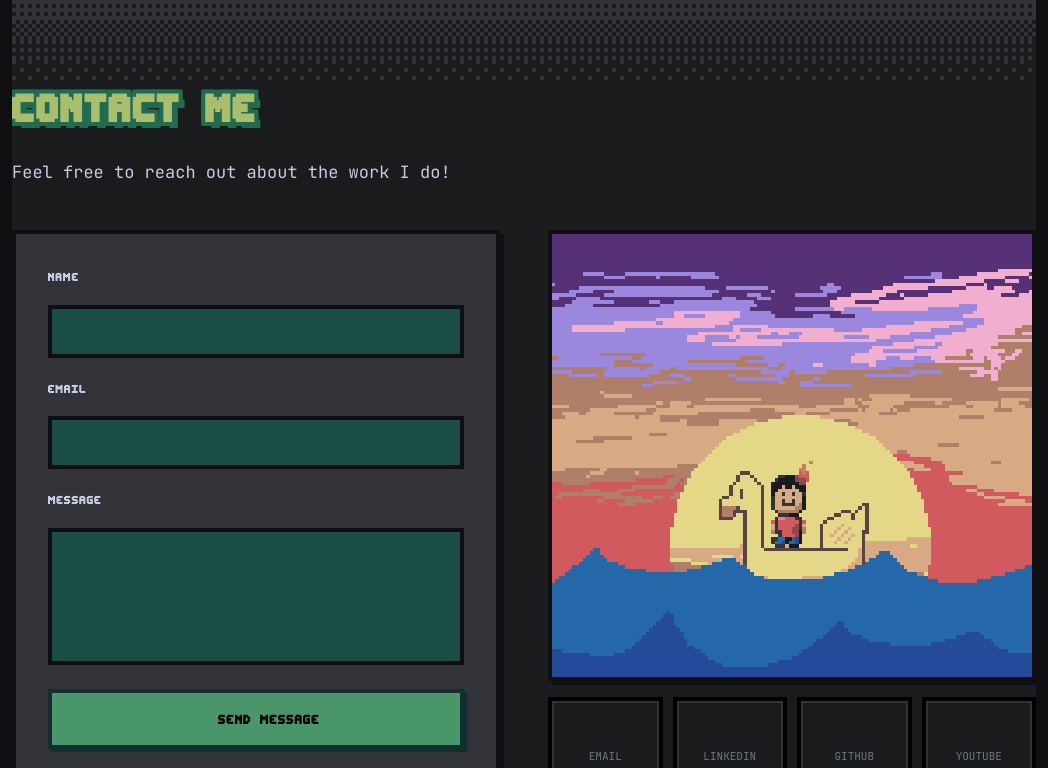
Test: Contact submission › shows the danger toast on failure and keeps the fields
The image size is (1048, 768).
Type "Ada" into the field labelled "Name".
click(256, 331); type("Ada")  # box [48,305,464,358]
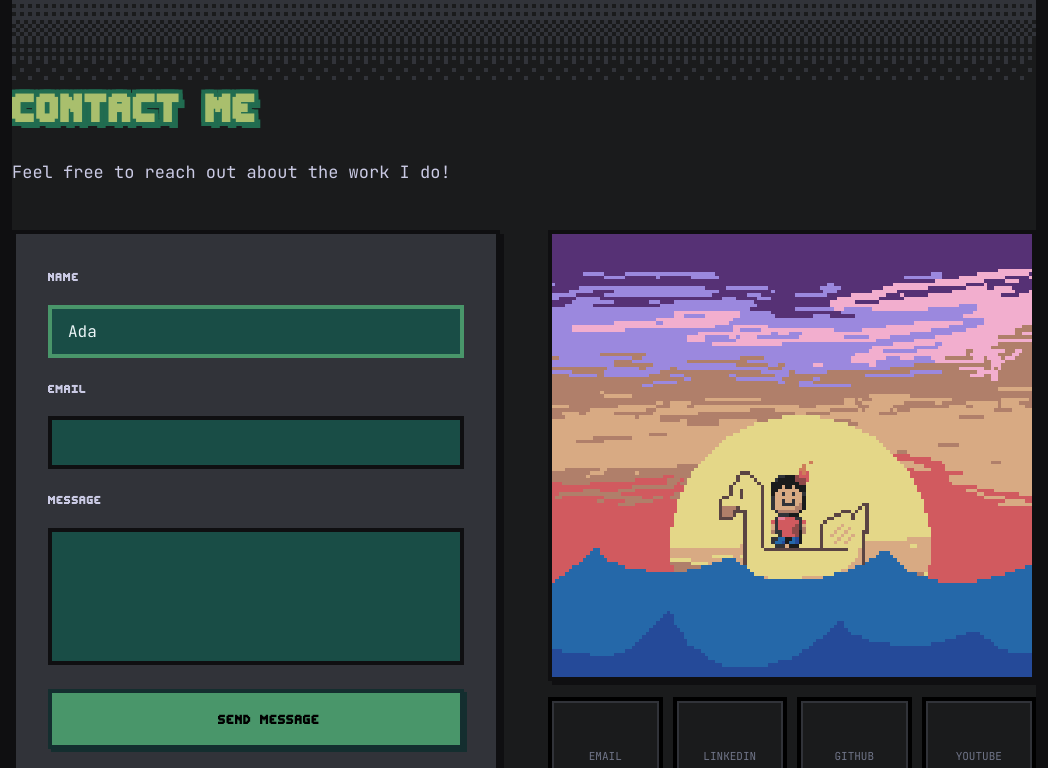
Type "ada@example.com" into the field labelled "Email".
click(256, 443); type("ada@example.com")  # box [48,416,464,469]
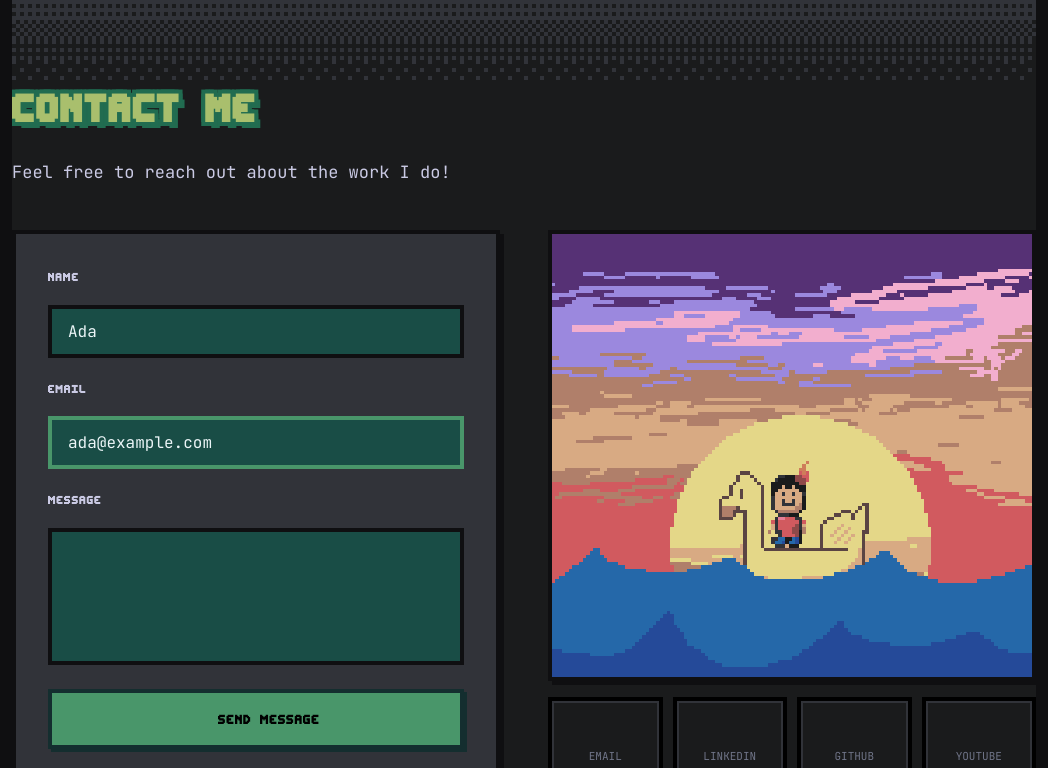
Type "Hello there" into the text box labelled "Message".
click(256, 596); type("Hello there")  # box [48,528,464,665]
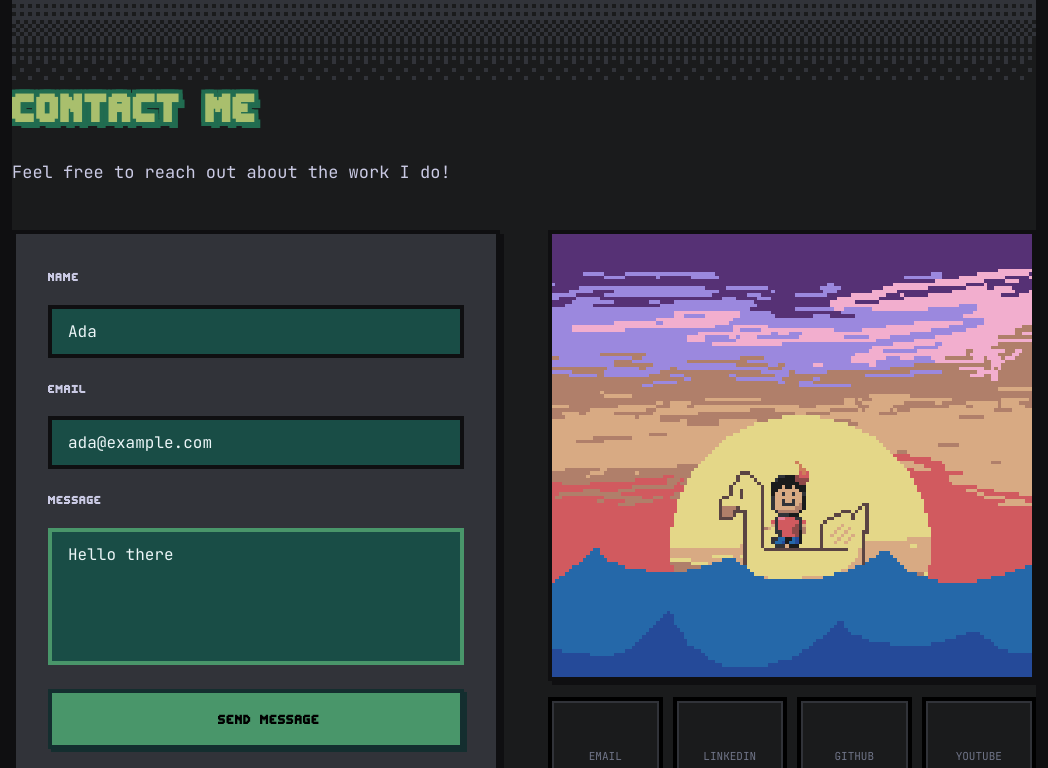
Click the button "Send Message".
click(256, 719)  # box [48,689,464,750]
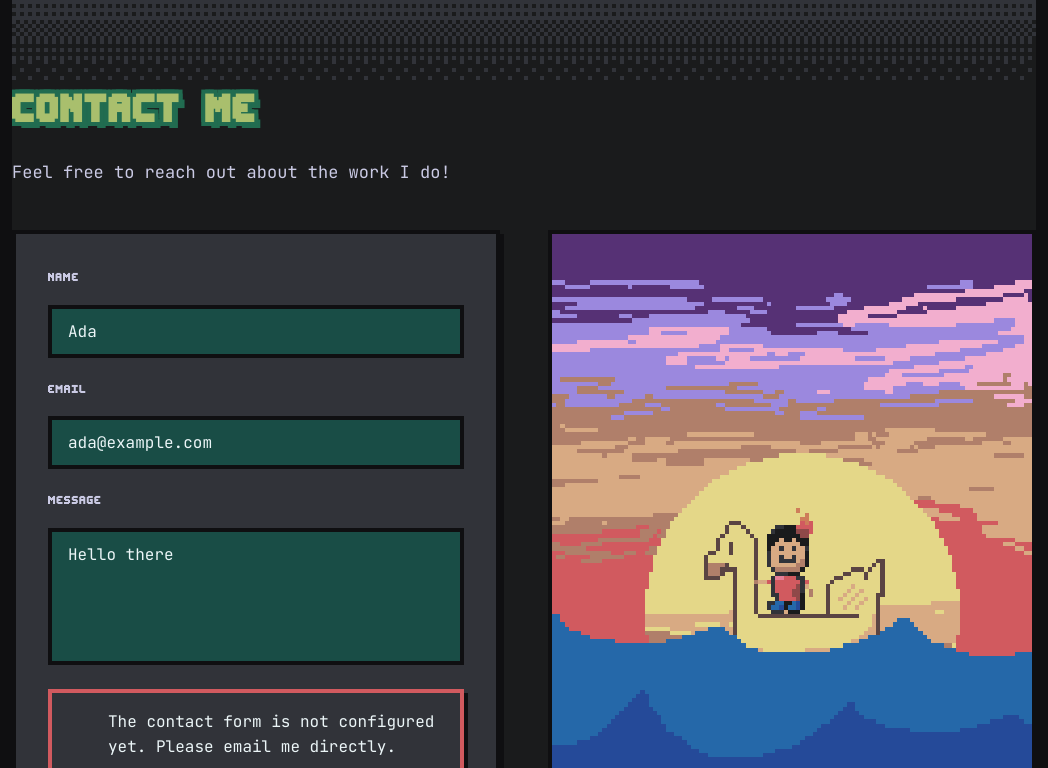
Now the message shows "not configured yet", box [108,711,434,757]
